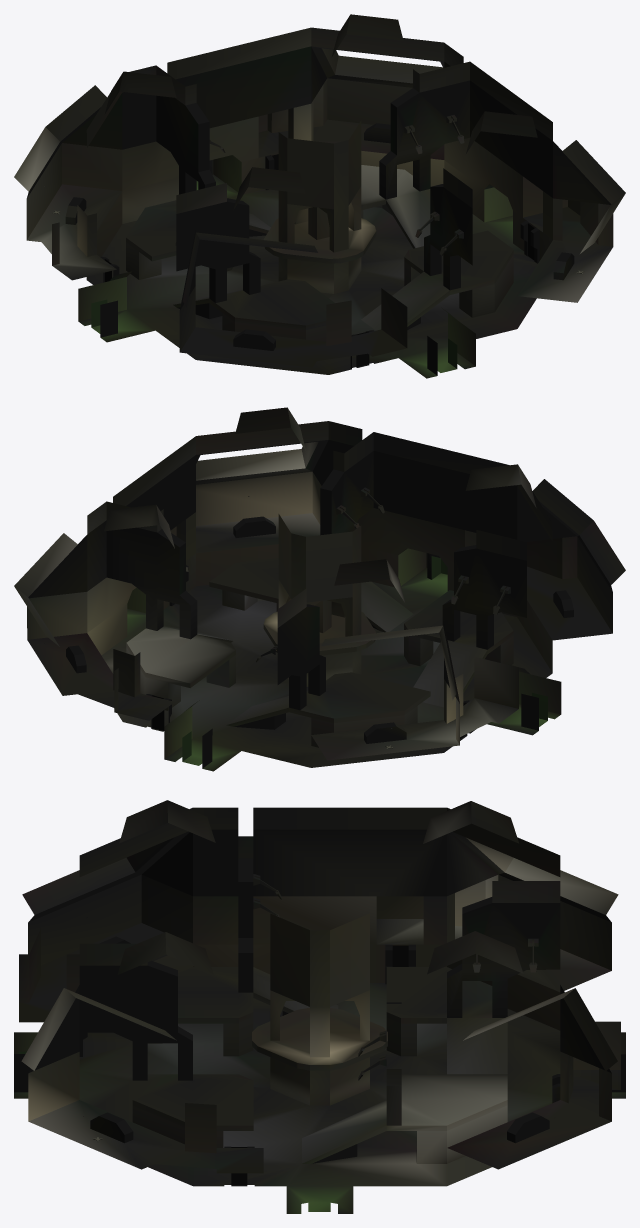
Rendered from WIZ.glb.
3 renders of one model, top to bottom at view 1: azimuth 30°, elevation 25°; view 2: azimuth 150°, elevation 25°; view 3: azimuth 270°, elevation 25°, orthographic. The views are drawn at different scales.
Visible parts, largest first — view 1: WIZ; view 2: WIZ; view 3: WIZ.
Part boxes in pixels (<box>): WIZ: <box>14,14,625,378</box>; WIZ: <box>14,407,625,771</box>; WIZ: <box>14,800,625,1213</box>.
Size of the model in its own units: 77.1 by 28.05 by 77.1.
